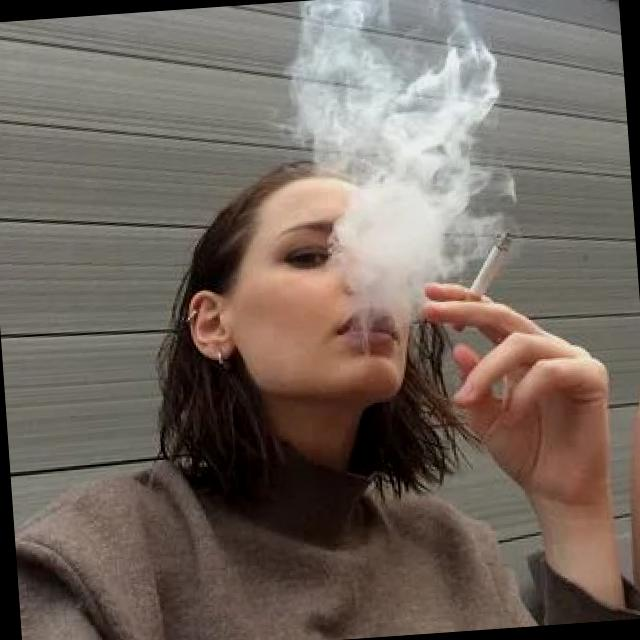cigarette: (444, 224, 527, 335)
